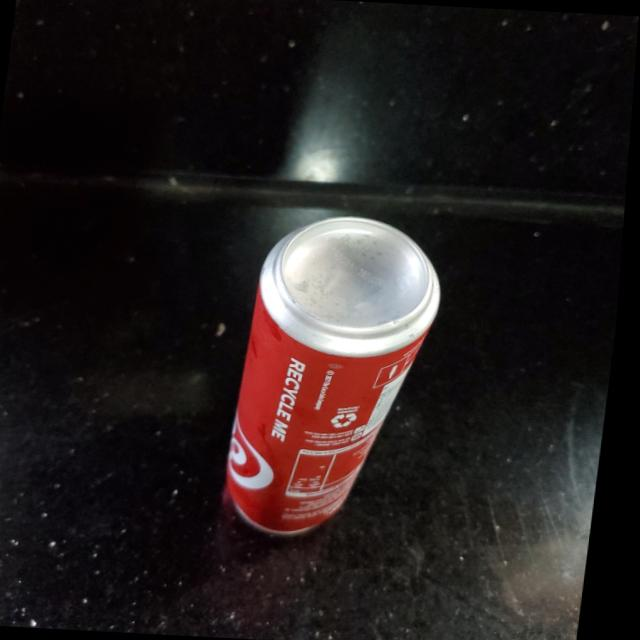coke: (226, 210, 452, 543)
